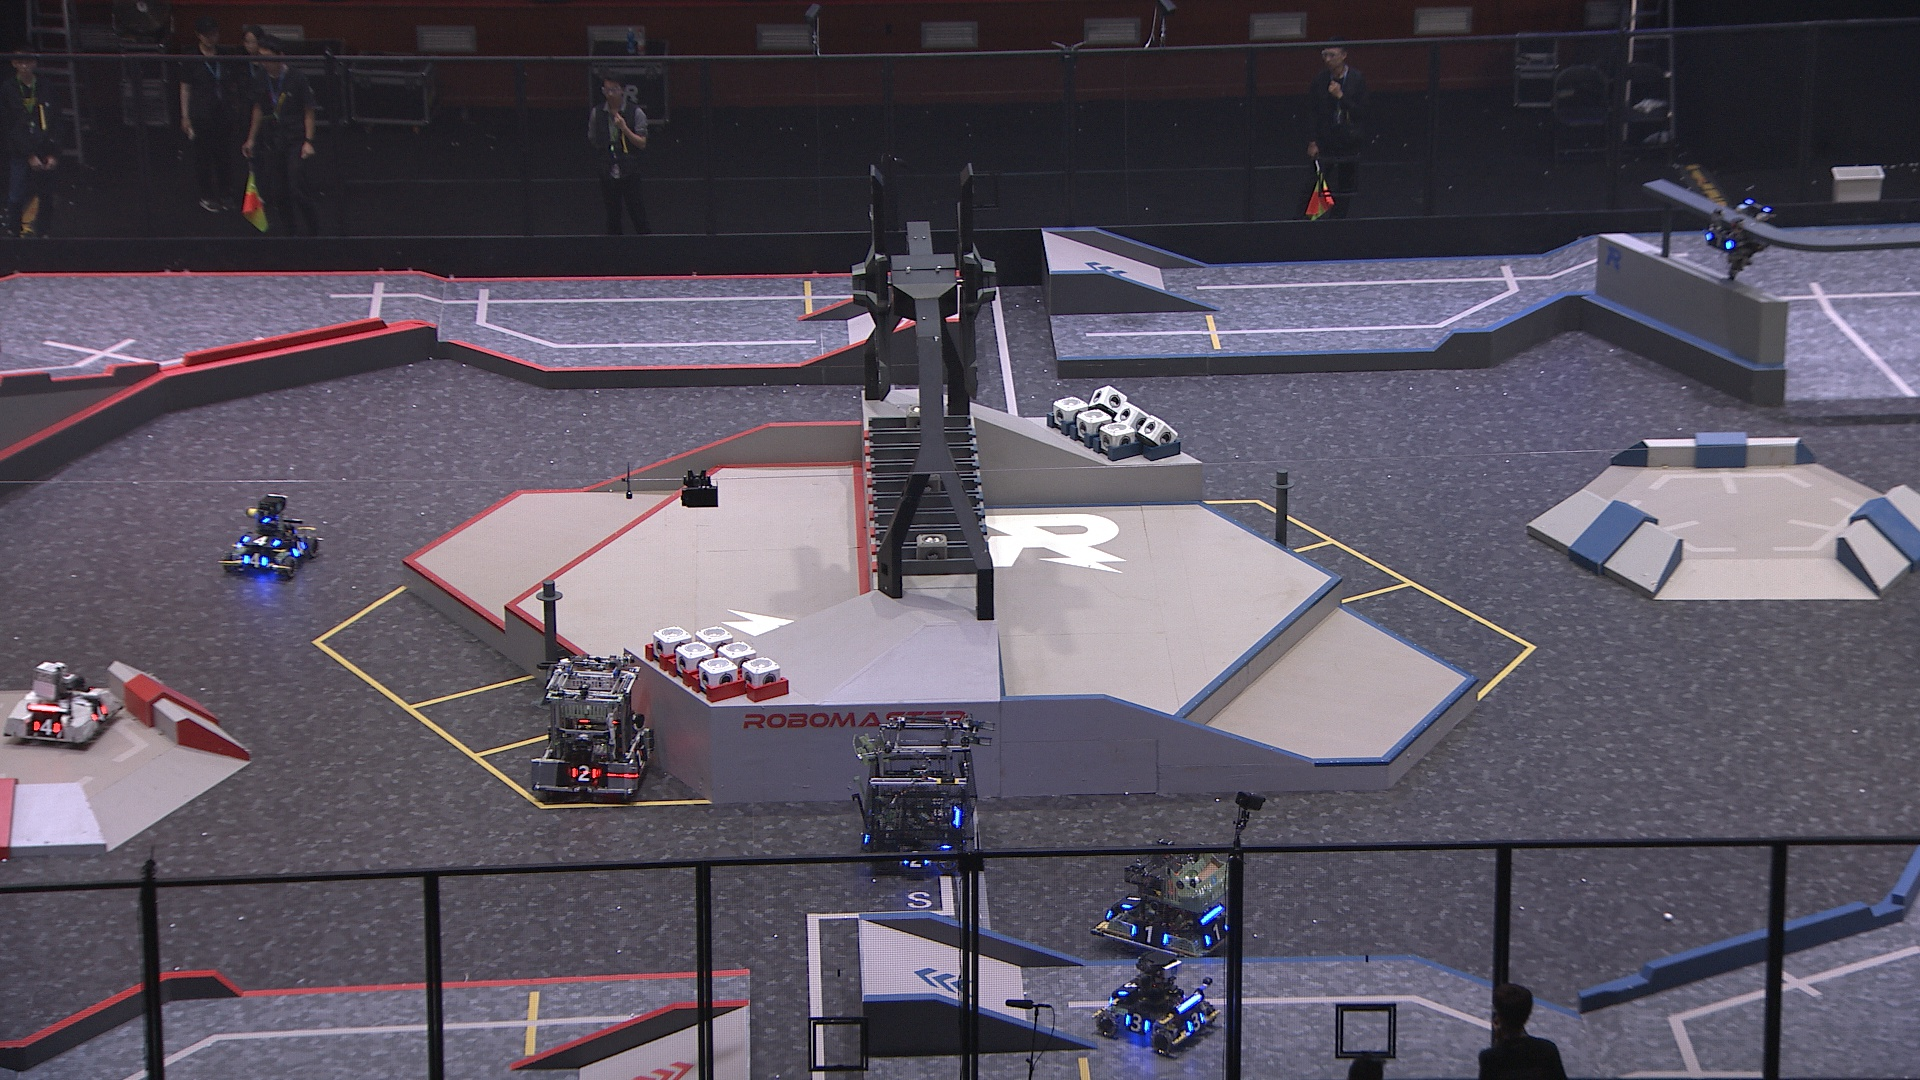armor: (1126, 920, 1171, 949), (1205, 918, 1236, 951), (1120, 1007, 1154, 1035), (1702, 228, 1737, 256), (897, 845, 932, 870), (568, 761, 603, 785), (29, 713, 61, 738), (1182, 1007, 1207, 1039), (243, 531, 280, 550), (1116, 975, 1139, 1001), (632, 745, 651, 775), (1116, 891, 1141, 913), (243, 553, 269, 570), (289, 534, 309, 556), (91, 703, 111, 723)
car: (852, 721, 986, 874), (1088, 836, 1244, 959), (531, 655, 655, 804), (1095, 949, 1225, 1054), (3, 651, 125, 750), (215, 493, 319, 582)
watcher: (1702, 195, 1778, 287)
